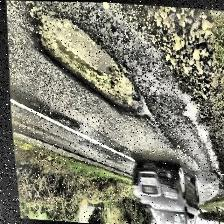pothole: (26, 8, 154, 120)
